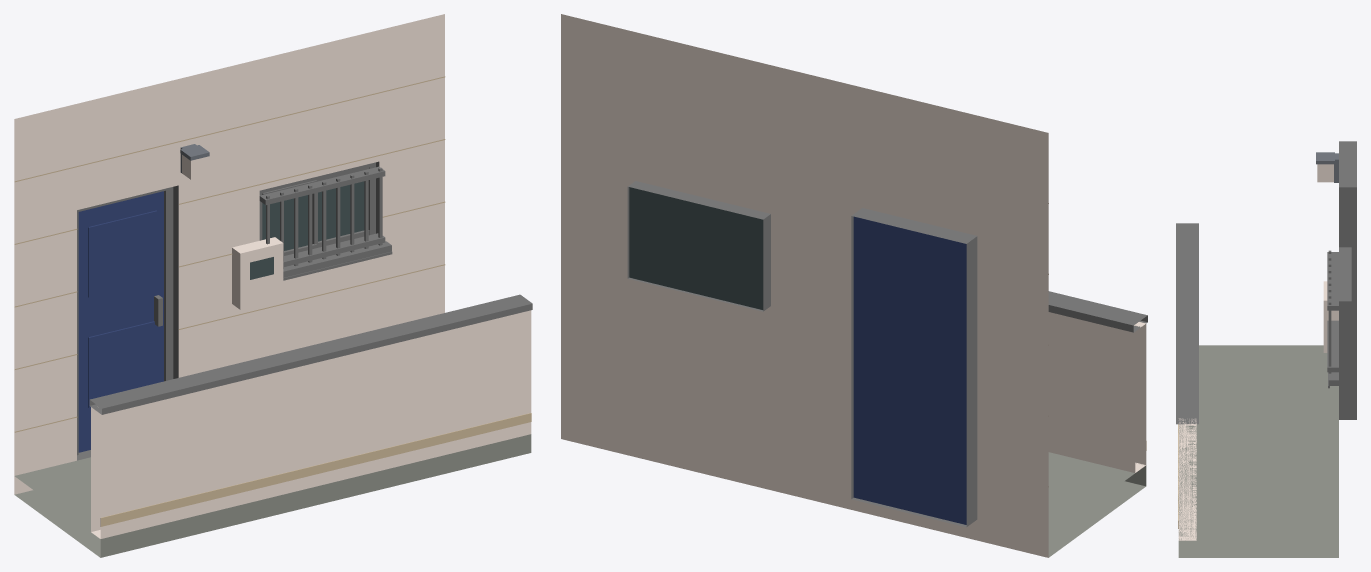
File: mid-w3_close.fbx
The picture shows the model from 3 angles, left to right: view 1: azimuth 30°, elevation 25°; view 2: azimuth 150°, elevation 25°; view 3: azimuth 270°, elevation 25°; orthographic projection. The views are drawn at different scales.
Parts seen in each view (by area): view 1: a2001/200/mid-w3_close; view 2: a2001/200/mid-w3_close; view 3: a2001/200/mid-w3_close.
Boxes of the visible parts, x1,y1,x2,y2 form: a2001/200/mid-w3_close: [14, 14, 532, 557]; a2001/200/mid-w3_close: [561, 14, 1147, 557]; a2001/200/mid-w3_close: [1176, 141, 1356, 557].
Size of the model in its own units: 3.6 by 3 by 1.41.
